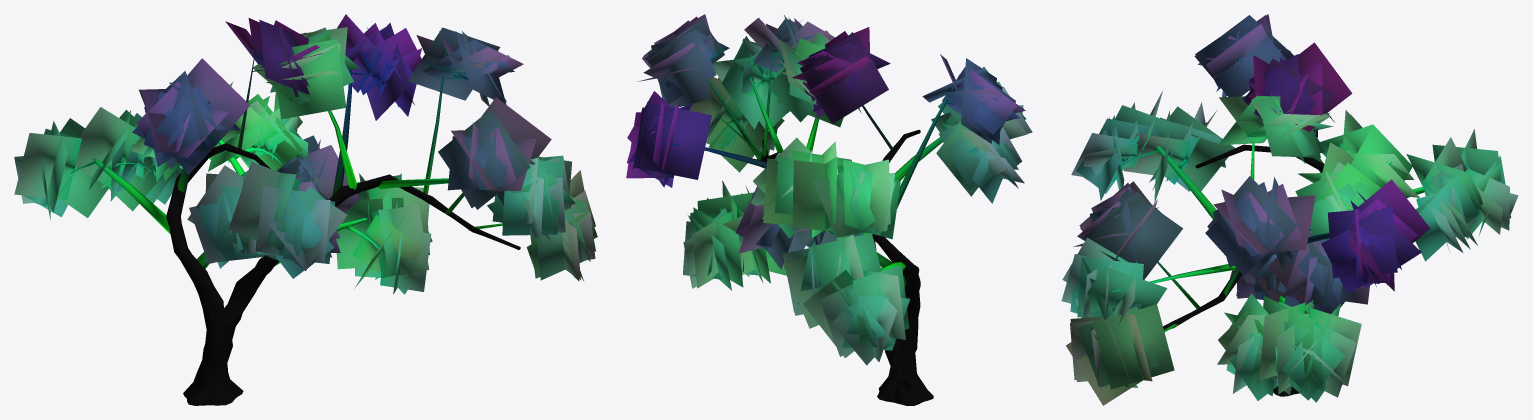
The model's file is Tree_8.fbx.
The picture shows the model from 3 angles, left to right: view 1: azimuth 30°, elevation 25°; view 2: azimuth 150°, elevation 25°; view 3: azimuth 270°, elevation 25°; orthographic projection. The views are drawn at different scales.
Visible parts, largest first — view 1: Tree_1, Tree_0; view 2: Tree_1, Tree_0; view 3: Tree_1, Tree_0.
Boxes of the visible parts, box(x1,y1,x2,y2) form: Tree_1: box(14, 14, 597, 294); Tree_0: box(70, 50, 520, 405); Tree_1: box(626, 14, 1032, 365); Tree_0: box(662, 52, 959, 405); Tree_1: box(1061, 14, 1518, 405); Tree_0: box(1112, 58, 1424, 396).
Size of the model in its own units: 971 by 820 by 952.
